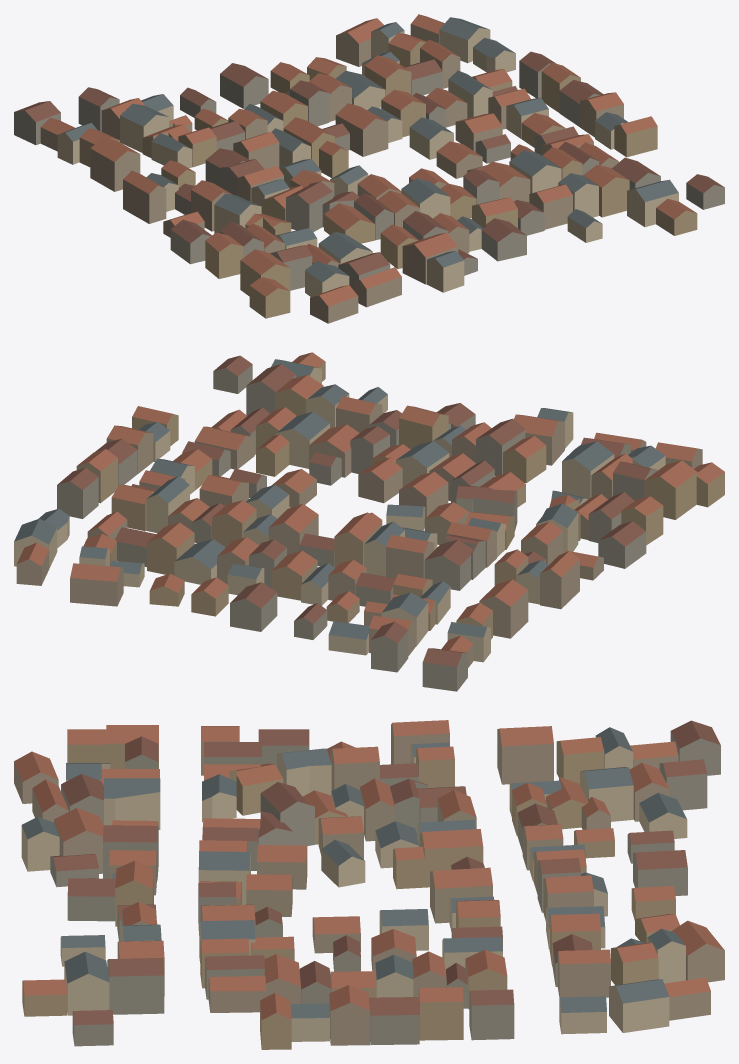
3 renders of one model, top to bottom at view 1: azimuth 30°, elevation 25°; view 2: azimuth 150°, elevation 25°; view 3: azimuth 270°, elevation 25°, orthographic. The views are drawn at different scales.
Parts seen in each view (by area): view 1: C_-2_1; view 2: C_-2_1; view 3: C_-2_1.
Part boxes in pixels (x1,y1,x2,y2): C_-2_1: (14, 14, 724, 323); C_-2_1: (14, 352, 724, 691); C_-2_1: (14, 720, 724, 1049).
Size of the model in its own units: 188 by 14.26 by 192.
